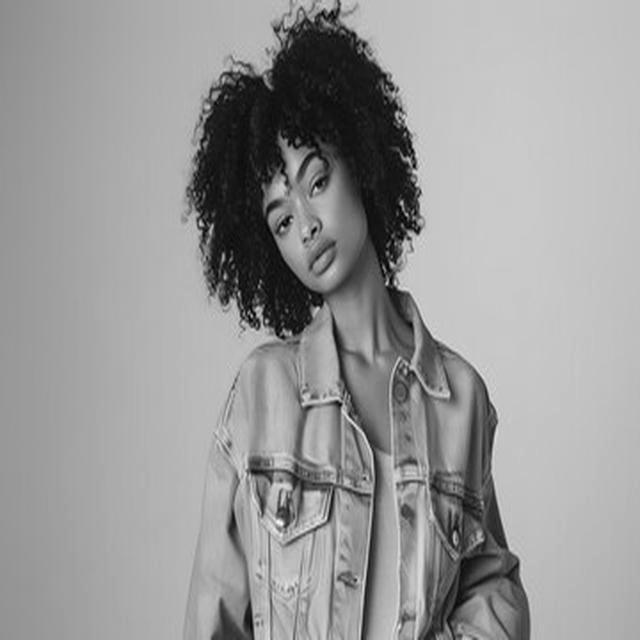Neutral: (262, 123, 368, 294)
